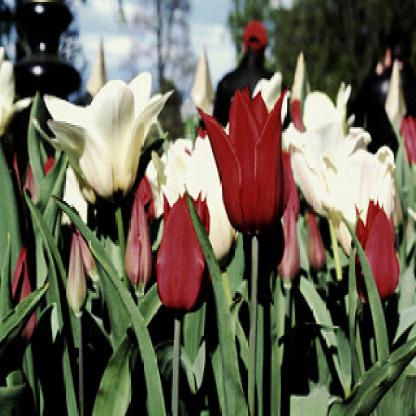TULIP: (38, 38, 411, 370)
